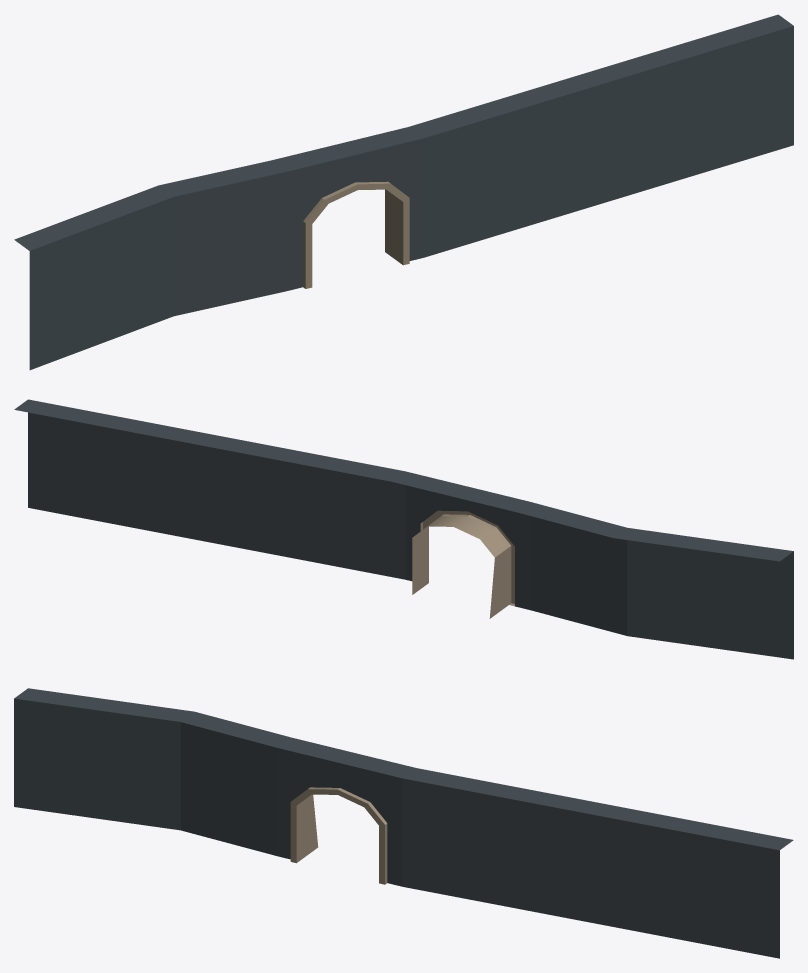
File: env_road_bridge.fbx
3 views of the same model, one above another, from view 1: azimuth 30°, elevation 25°; view 2: azimuth 150°, elevation 25°; view 3: azimuth 330°, elevation 25° (orthographic). The views are drawn at different scales.
Parts seen in each view (by area): view 1: road_bridge; view 2: road_bridge; view 3: road_bridge.
Part boxes in pixels (left/top/right/bottom): road_bridge: left=14, top=14, right=793, bottom=370; road_bridge: left=14, top=399, right=793, bottom=659; road_bridge: left=14, top=688, right=793, bottom=958.
Size of the model in its own units: 12380 by 1757 by 1473.
Materials: 1 (1 with a texture image).
